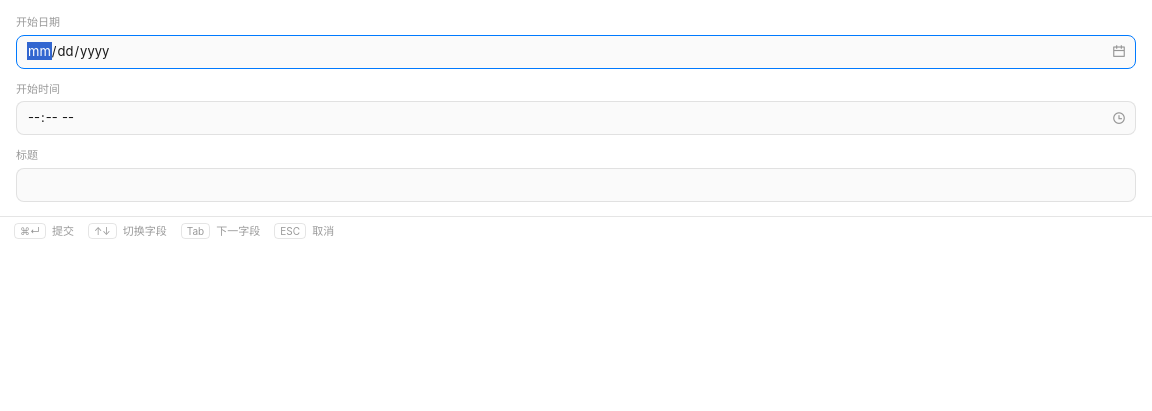
Test case: FormPage date/time 自建面板 › 点击图标按钮打开时间面板
Step 1. Click the 2nd button with class "form-picker-btn" → coordinates (1119, 118), box [1107, 106, 1131, 130]
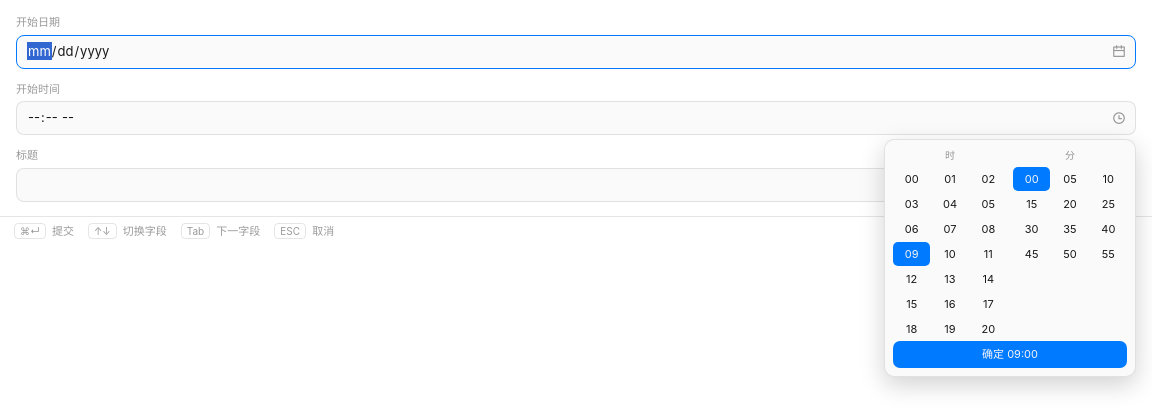
Expected: the element with test id "picker-panel" is shown, [884, 139, 1136, 376]
Expected: the 1st button "00" is shown, [893, 167, 930, 191]
